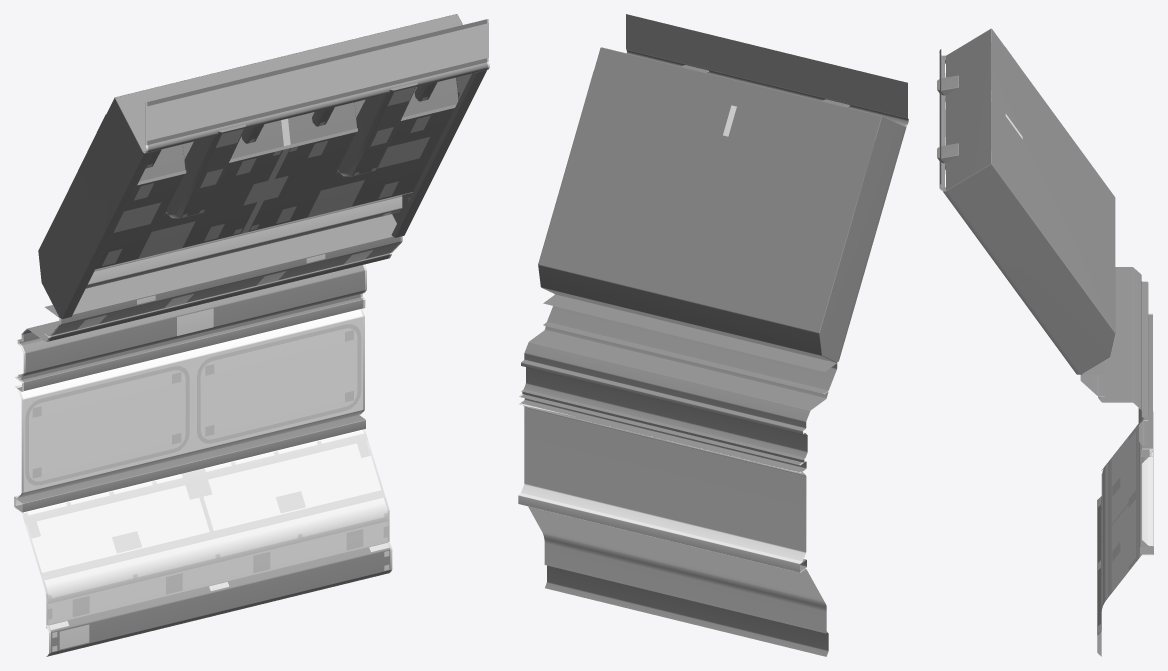
File: LargeWall2.fbx
3 views of the same model, side by side, from view 1: azimuth 30°, elevation 25°; view 2: azimuth 150°, elevation 25°; view 3: azimuth 270°, elevation 25° (orthographic). The views are drawn at different scales.
Parts seen in each view (by area): view 1: Plane.042, StylizedHardSurface_TrimDecals_004.022, StylizedHardSurface_Panels_002.022, StylizedHardSurface_Panels_002.021, StylizedHardSurface_Panels_007.006, StylizedHardSurface_Decals_030.004_projected, StylizedHardSurface_Panels_002.025, StylizedHardSurface_Panels_002.020, StylizedHardSurface_Decals_057.002_projected, StylizedHardSurface_Panels_001.003, StylizedHardSurface_Decals_040.002_projected, StylizedHardSurface_Decals_024.001_projected (+3 smaller); view 2: Plane.042; view 3: Plane.042, StylizedHardSurface_Panels_002.022.
Boxes of the visible parts, x1,y1,x2,y2 form: Plane.042: (14, 14, 487, 656); StylizedHardSurface_TrimDecals_004.022: (145, 23, 488, 141); StylizedHardSurface_Panels_002.022: (23, 433, 385, 580); StylizedHardSurface_Panels_002.021: (25, 324, 361, 485); StylizedHardSurface_Panels_007.006: (88, 196, 402, 284); StylizedHardSurface_Decals_030.004_projected: (138, 180, 364, 258); StylizedHardSurface_Panels_002.025: (46, 517, 389, 604); StylizedHardSurface_Panels_002.020: (14, 19, 489, 656); StylizedHardSurface_Decals_057.002_projected: (113, 137, 429, 232); StylizedHardSurface_Panels_001.003: (95, 104, 456, 269); StylizedHardSurface_Decals_040.002_projected: (112, 491, 305, 553); StylizedHardSurface_Decals_024.001_projected: (102, 115, 430, 266); Plane.042: (518, 14, 908, 656); Plane.042: (937, 28, 1153, 656); StylizedHardSurface_Panels_002.022: (1108, 424, 1139, 597).
Size of the model in its own units: 400 by 698 by 270.
